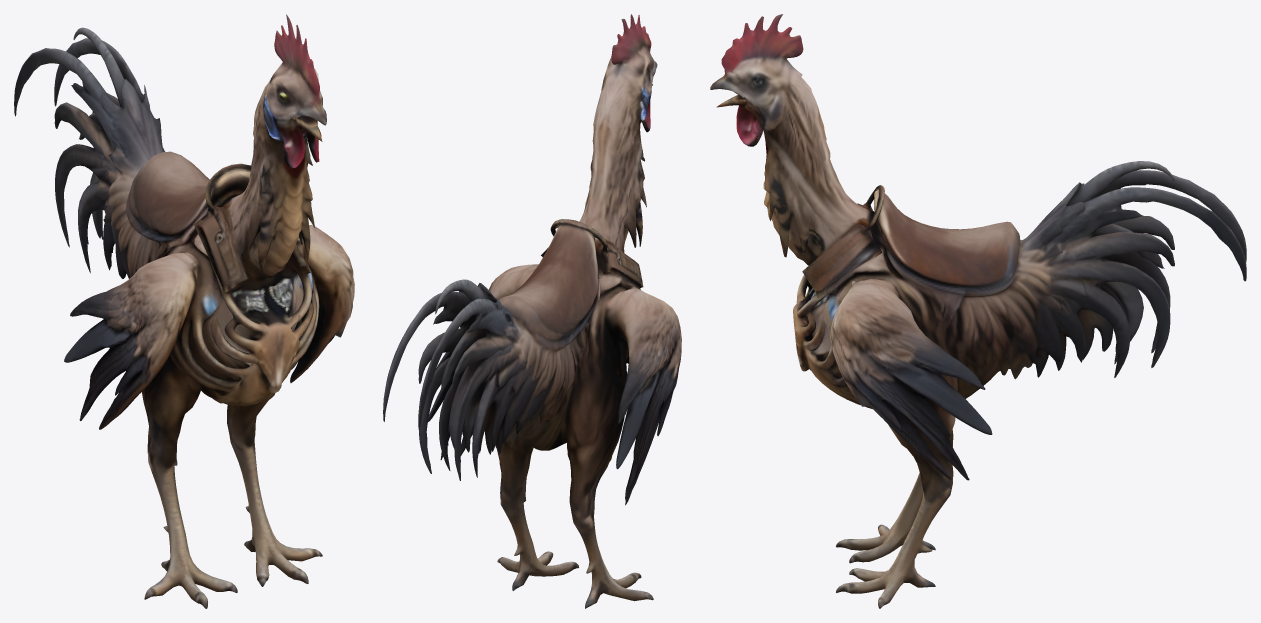
The model's file is base_basic_shaded.fbx.
3 renders of one model, left to right at view 1: azimuth 30°, elevation 25°; view 2: azimuth 150°, elevation 25°; view 3: azimuth 270°, elevation 25°, orthographic. The views are drawn at different scales.
Parts seen in each view (by area): view 1: model; view 2: model; view 3: model.
Part boxes in pixels (x1,y1,x2,y2): model: (14, 14, 354, 608); model: (383, 14, 681, 608); model: (710, 14, 1246, 608).
Size of the model in its own units: 64.88 by 171 by 149.
